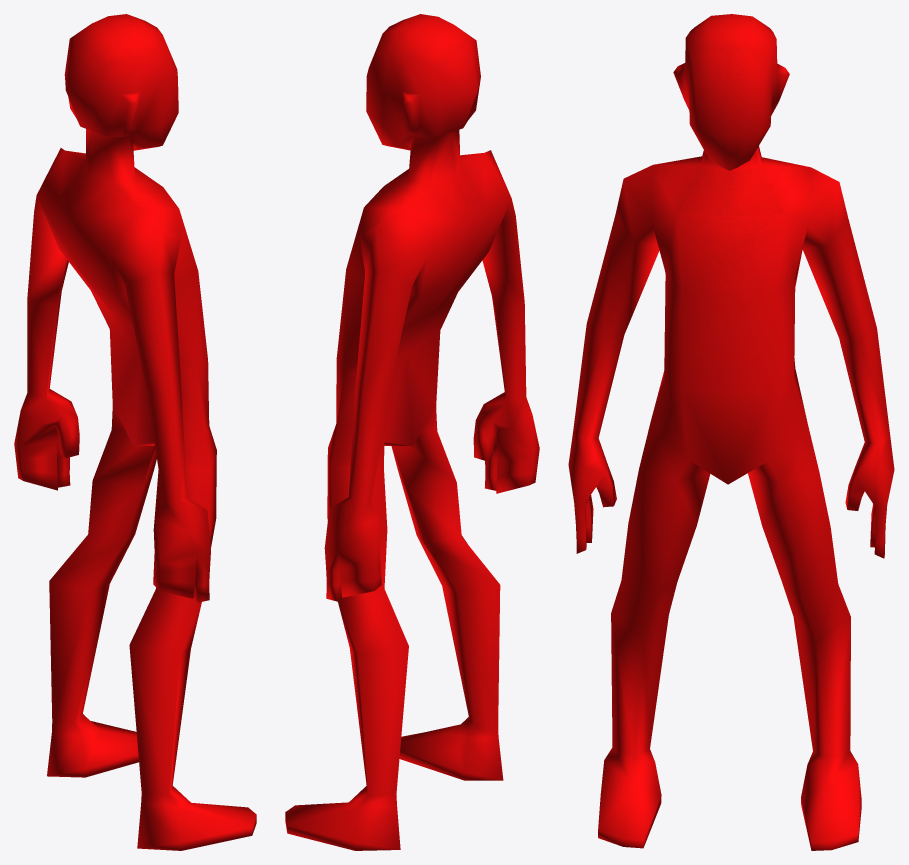
The model's file is cikica.obj.
3 renders of one model, left to right at view 1: azimuth 30°, elevation 25°; view 2: azimuth 150°, elevation 25°; view 3: azimuth 270°, elevation 25°, orthographic.
Parts seen in each view (by area): view 1: Cube_Material_0; view 2: Cube_Material_0; view 3: Cube_Material_0.
Part boxes in pixels (left/top/right/bottom): Cube_Material_0: left=14, top=14, right=256, bottom=850; Cube_Material_0: left=285, top=14, right=539, bottom=850; Cube_Material_0: left=568, top=14, right=894, bottom=850.
Size of the model in its own units: 0.0212 by 0.1113 by 0.0416.
1 material, 1 textured.
